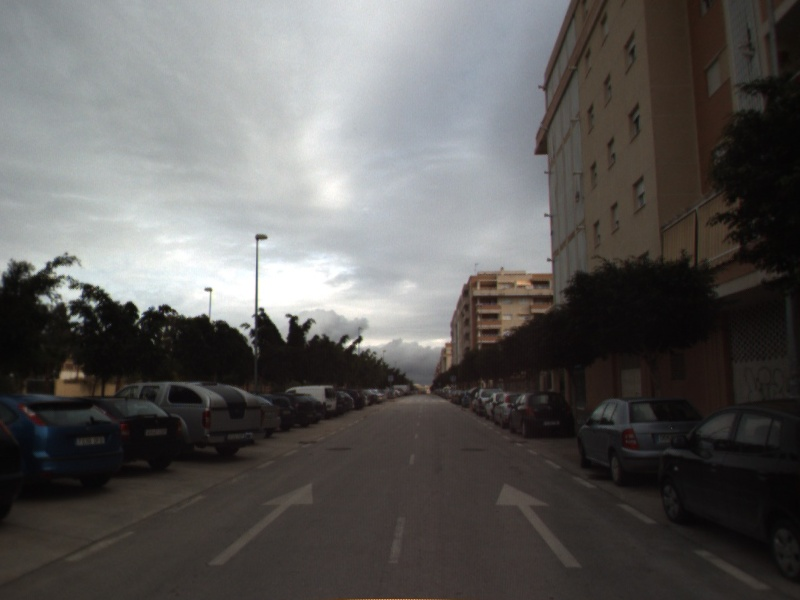STRAIGHT: (206, 481, 316, 567), (493, 481, 584, 569)
